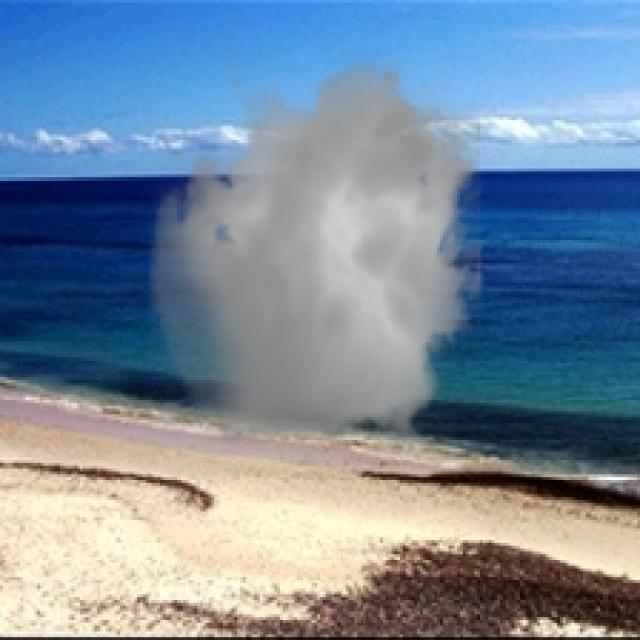Smoke: (137, 46, 497, 466)
